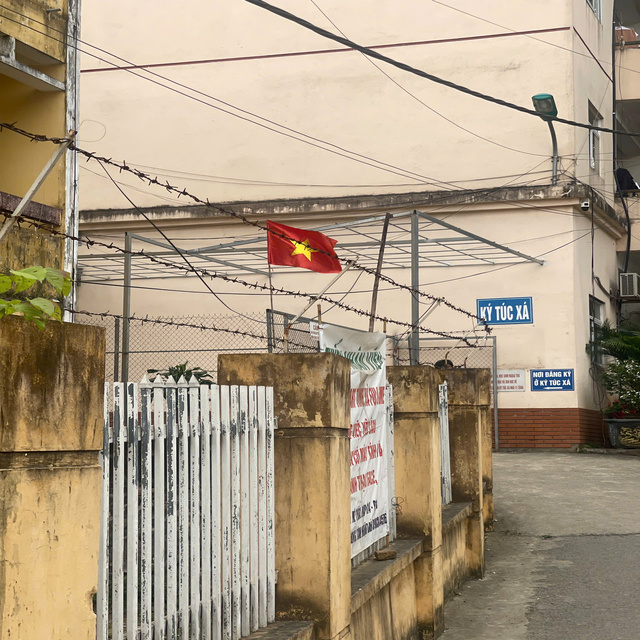laco: (261, 216, 350, 279)
